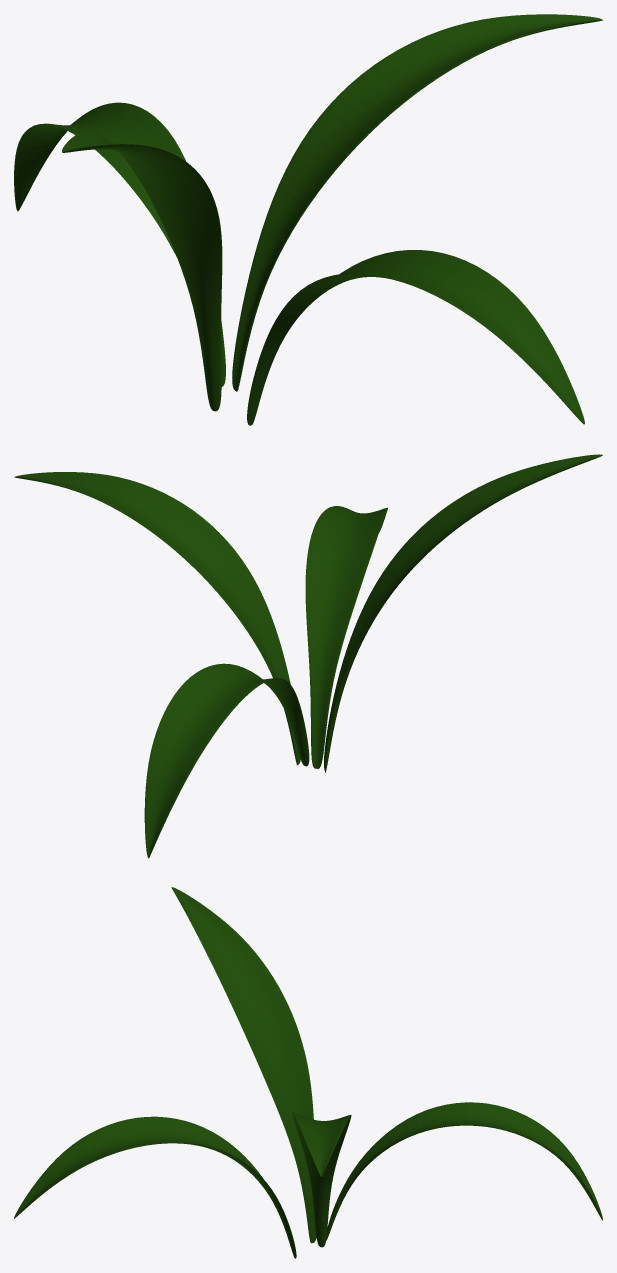
The model's file is plantesimple2.obj.
The picture shows the model from 3 angles, top to bottom: view 1: azimuth 30°, elevation 25°; view 2: azimuth 150°, elevation 25°; view 3: azimuth 270°, elevation 25°; orthographic projection. The views are drawn at different scales.
Visible parts, largest first — view 1: Plan.001, Plan.003, Plan.002, Plan; view 2: Plan.001, Plan.003, Plan, Plan.002; view 3: Plan.002, Plan.003, Plan, Plan.001.
Part boxes in pixels (left/top/right/bottom): Plan.001: left=232, top=14, right=602, bottom=391; Plan.003: left=247, top=250, right=584, bottom=425; Plan.002: left=62, top=131, right=222, bottom=411; Plan: left=14, top=102, right=225, bottom=386; Plan.001: left=14, top=472, right=300, bottom=765; Plan.003: left=305, top=506, right=387, bottom=768; Plan: left=144, top=663, right=309, bottom=858; Plan.002: left=324, top=454, right=602, bottom=772; Plan.002: left=171, top=887, right=316, bottom=1243; Plan.003: left=14, top=1116, right=296, bottom=1258; Plan: left=326, top=1102, right=602, bottom=1240; Plan.001: left=292, top=1112, right=351, bottom=1247.
Bounding box in the file's own units: 0.4179 × 0.25 × 0.4795.
